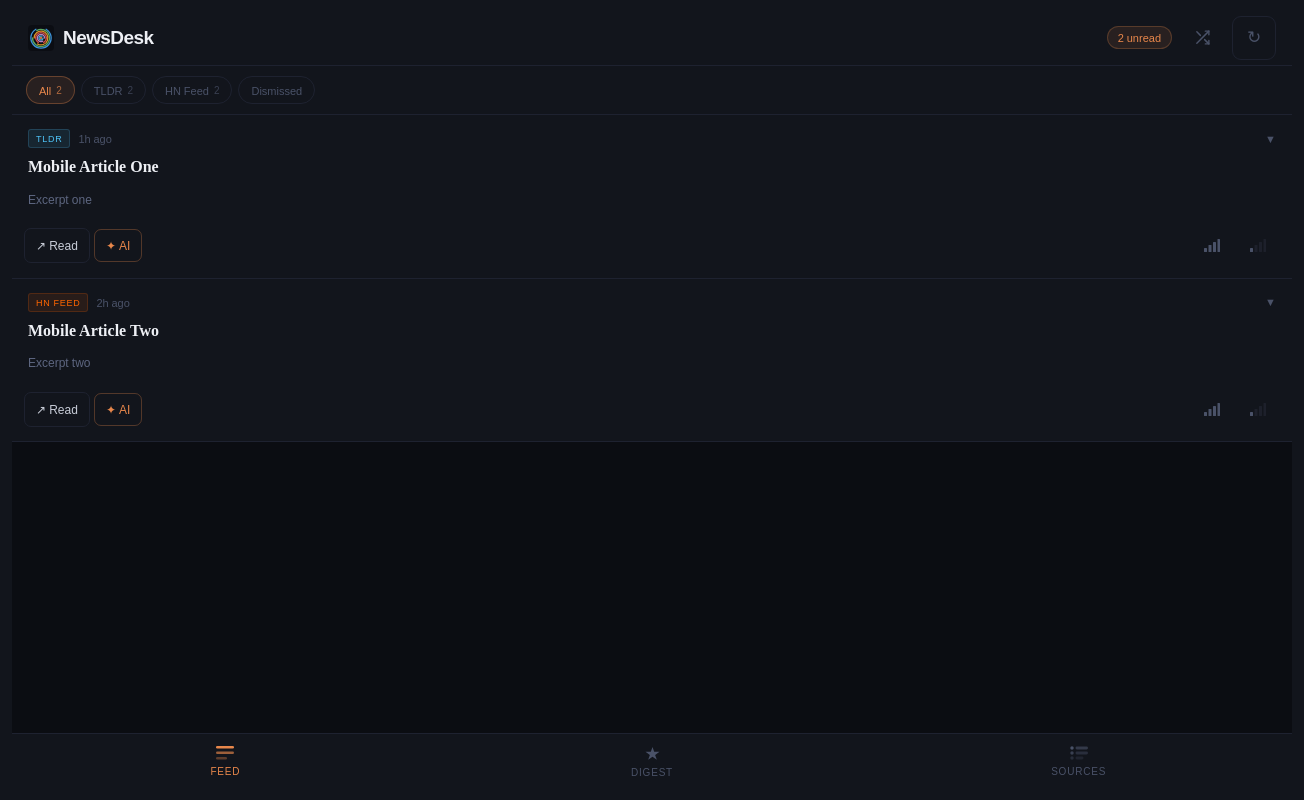
Test: MobileApp — sources tab › shows add form when showAdd is true
What coordinates should you click on to do the following:
click the button "Sources"
I would click on:
 (1079, 762)
Its box is left=865, top=734, right=1292, bottom=790.
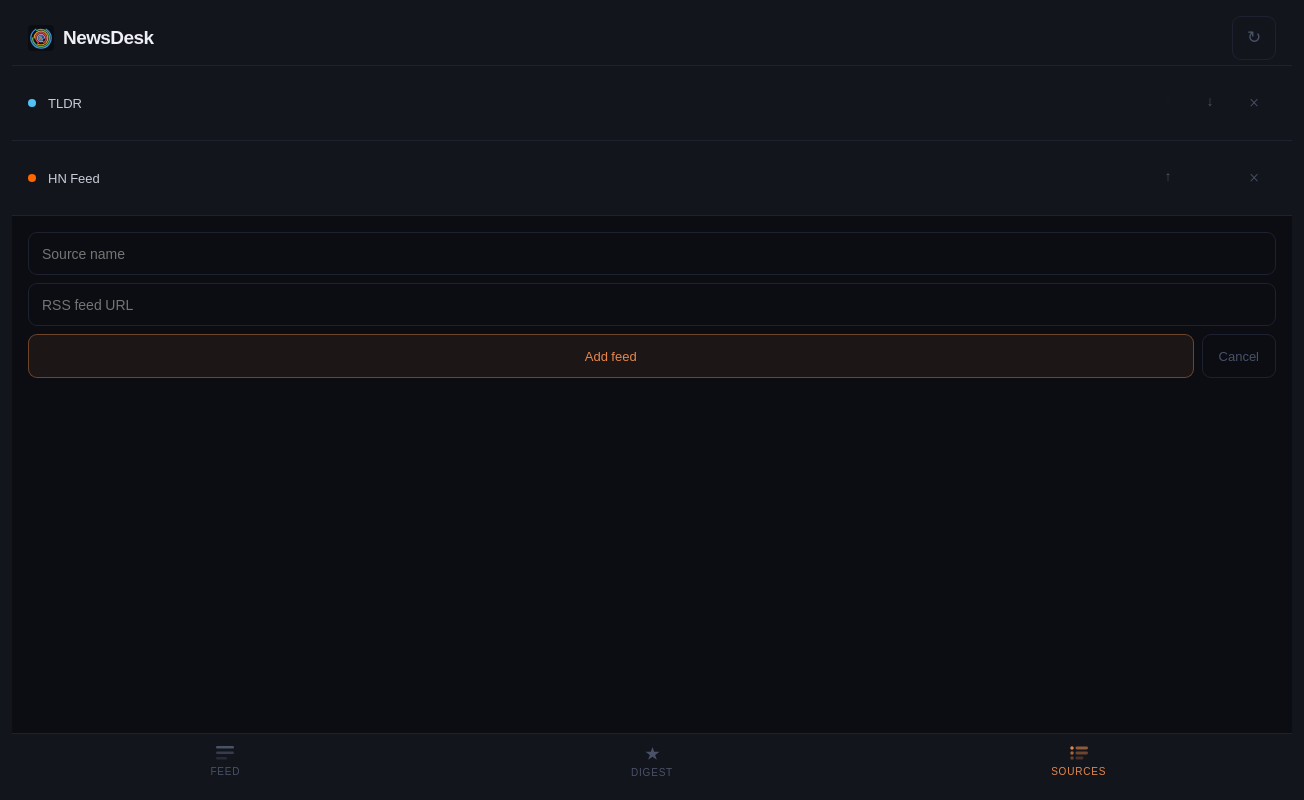
Now the field with placeholder "Source name" is shown, box left=28, top=232, right=1276, bottom=275
Now the field with placeholder "RSS feed URL" is shown, box left=28, top=283, right=1276, bottom=326
